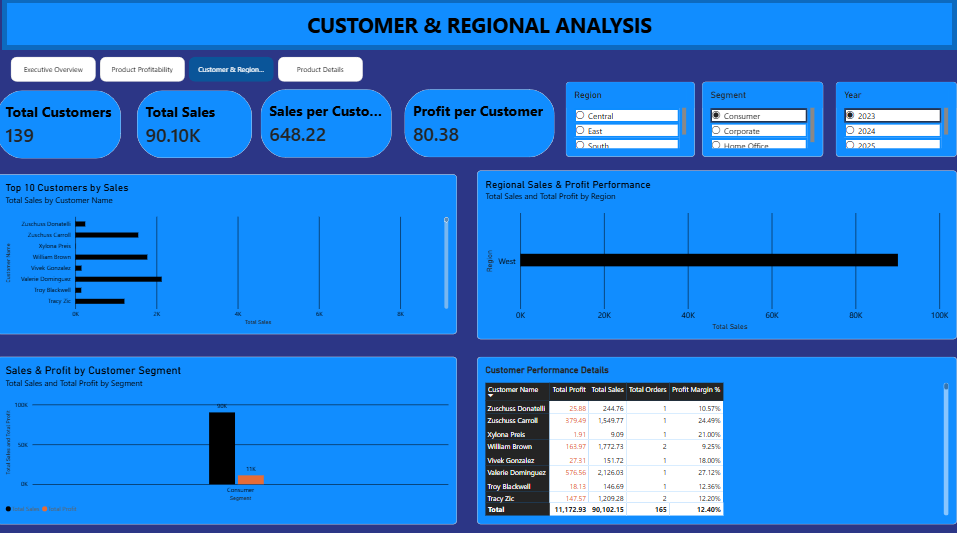

This screenshot's page, from the dashboard's own definition file:
{"tool":"powerbi","page":{"name":"Customer & Regional Analysis","canvas":[1920,1080],"ordinal":2},"visuals":[{"type":"shape","box":[10,0,1910,104],"z":0},{"type":"cardVisual","fields":{"Data":["Fact_Sales.Total Customers"]},"box":[0,185,248,136],"z":1},{"type":"cardVisual","fields":{"Data":["Dim_Date.Total Sales"]},"box":[280,185,230,135],"z":2},{"type":"cardVisual","fields":{"Data":["Fact_Sales.Sales per Customer"]},"box":[527.5,182.5,262.5,137.5],"z":3},{"type":"cardVisual","fields":{"Data":["Fact_Sales.Profit per Customer"]},"box":[815,182.5,300,136],"z":4},{"type":"clusteredBarChart","title":"Top 10 Customers by Sales","fields":{"Category":["Fact_Sales.Customer Name"],"Y":["Dim_Date.Total Sales"]},"box":[0,352.5,920,320],"z":5},{"type":"clusteredColumnChart","title":"Sales & Profit by Customer Segment","fields":{"Category":["Fact_Sales.Segment"],"Y":["Dim_Date.Total Sales","Dim_Date.Total Profit"]},"box":[0,717.5,920,335],"z":6},{"type":"clusteredBarChart","title":"Regional Sales & Profit Performance","fields":{"Category":["Fact_Sales.Region"],"Y":["Dim_Date.Total Sales"]},"box":[960,345,960,337.5],"z":7},{"type":"pivotTable","title":"Customer Performance Details","fields":{"Rows":["Fact_Sales.Customer Name"],"Values":["Dim_Date.Total Profit","Dim_Date.Total Sales","Fact_Sales.Total Orders","Dim_Date.Profit Margin %"]},"box":[960,717.5,960,335],"z":8},{"type":"listSlicer","fields":{"Values":["Fact_Sales.Region"]},"box":[1137.5,167.5,258,150],"z":9},{"type":"listSlicer","fields":{"Values":["Fact_Sales.Segment"]},"box":[1410,167.5,242,150],"z":10},{"type":"listSlicer","fields":{"Values":["Dim_Date.Year"]},"box":[1677.5,167.5,242,150],"z":11},{"type":"pageNavigator","box":[27.5,117.5,705,50],"z":12}]}

Visuals, with their boxes in screenshot pixels (x1, y1, x2, y2), scaled from the page's 1920x1080 canvas onto the 957x533 screenshot:
shape: (5, 0, 956, 51)
cardVisual - Fact_Sales.Total Customers: (0, 91, 124, 158)
cardVisual - Dim_Date.Total Sales: (140, 91, 254, 158)
cardVisual - Fact_Sales.Sales per Customer: (263, 90, 394, 158)
cardVisual - Fact_Sales.Profit per Customer: (406, 90, 556, 157)
"Top 10 Customers by Sales" clusteredBarChart: (0, 174, 459, 332)
"Sales & Profit by Customer Segment" clusteredColumnChart: (0, 354, 459, 519)
"Regional Sales & Profit Performance" clusteredBarChart: (478, 170, 956, 337)
"Customer Performance Details" pivotTable: (478, 354, 956, 519)
listSlicer - Fact_Sales.Region: (567, 83, 696, 157)
listSlicer - Fact_Sales.Segment: (703, 83, 823, 157)
listSlicer - Dim_Date.Year: (836, 83, 956, 157)
pageNavigator: (14, 58, 365, 83)
